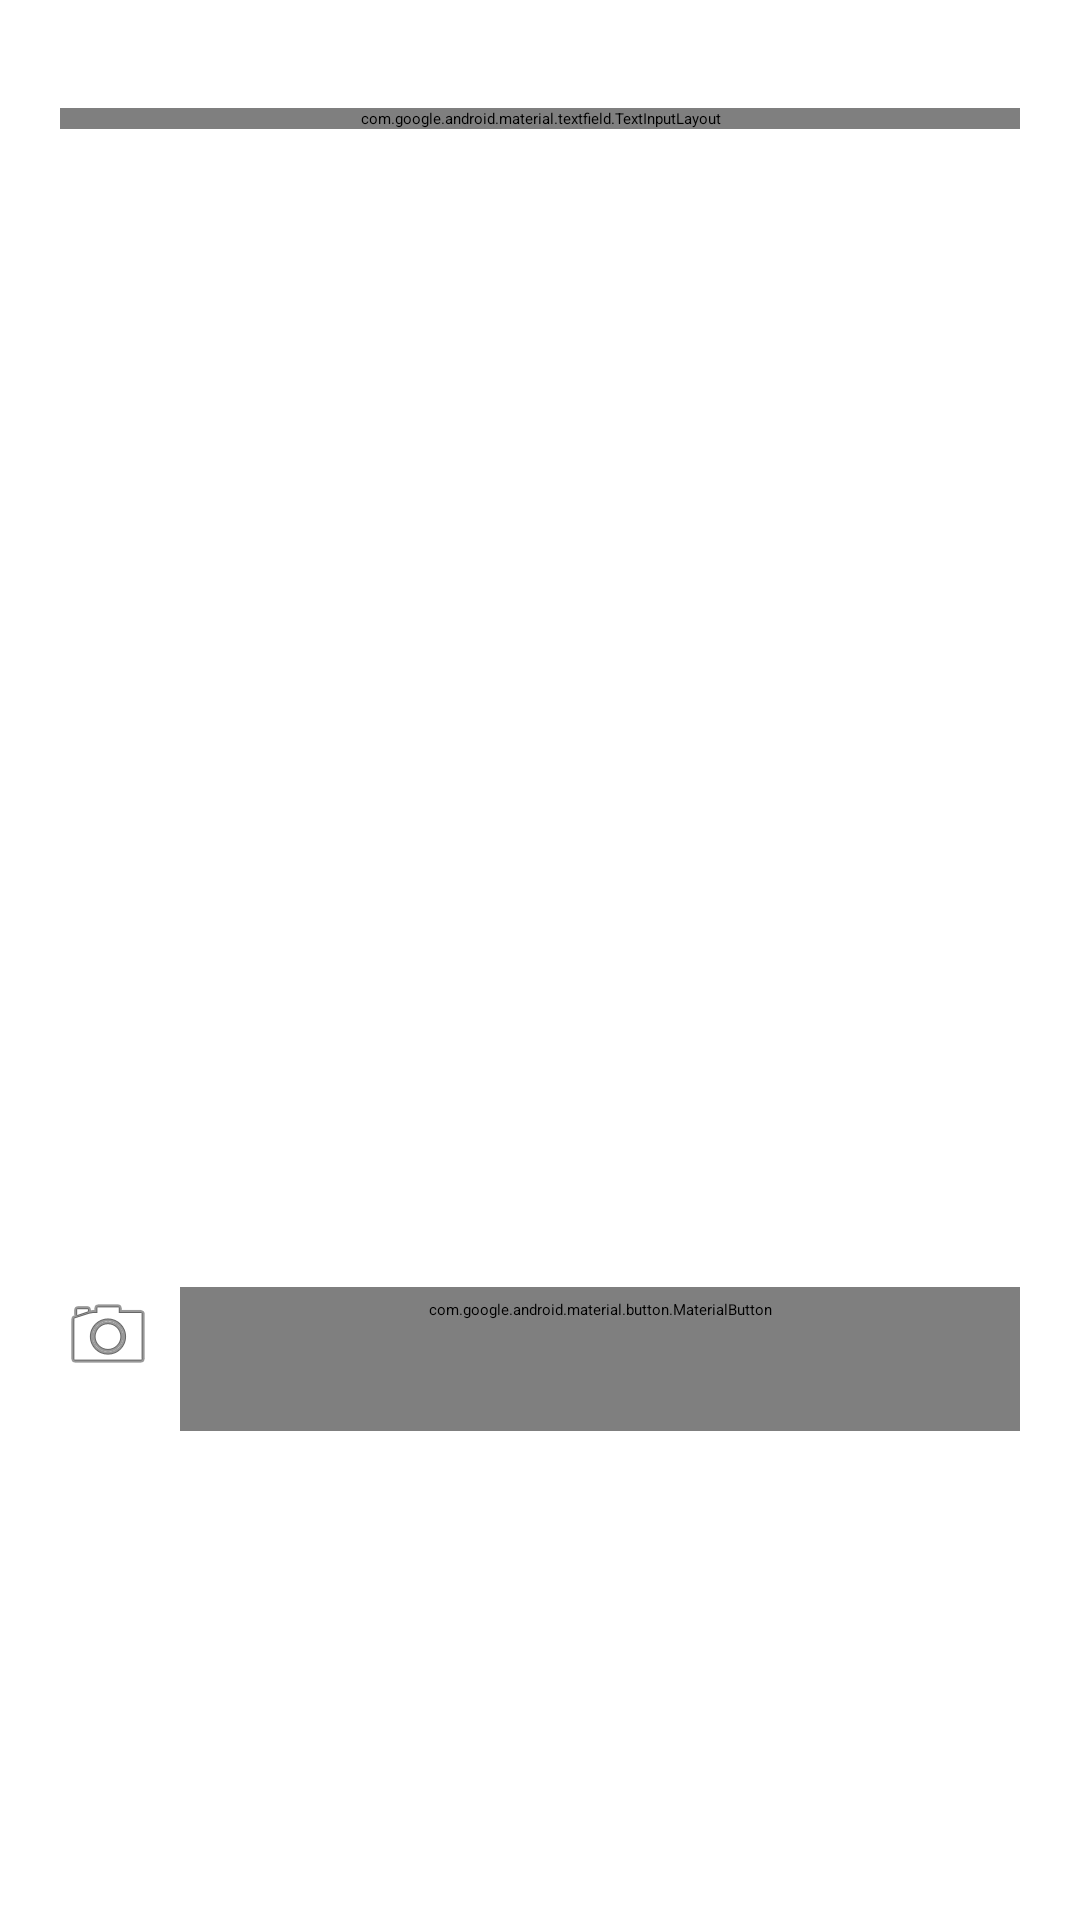

Screen size 1080 x 1920. Icon name, then its center in pixels as (x=x, y=y):
Upload Picture: (x=108, y=1333)
